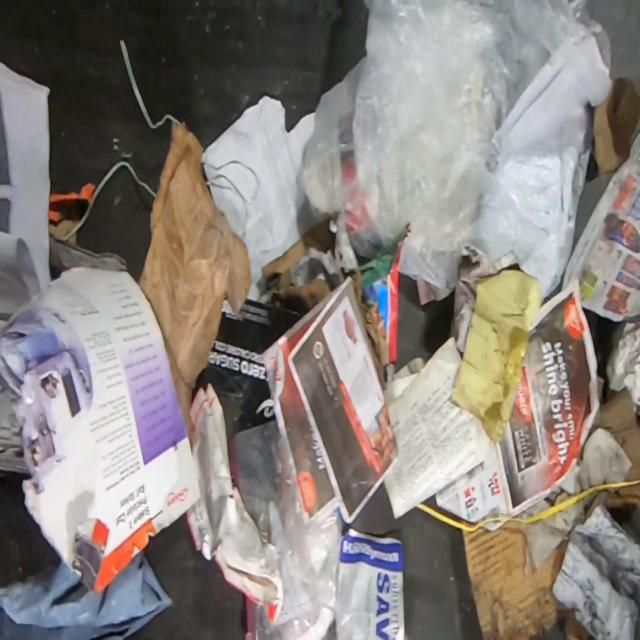cardboard: (139, 120, 251, 451), (460, 515, 570, 639)
soft_plastic: (303, 1, 613, 288), (0, 471, 174, 639), (231, 420, 344, 639)
